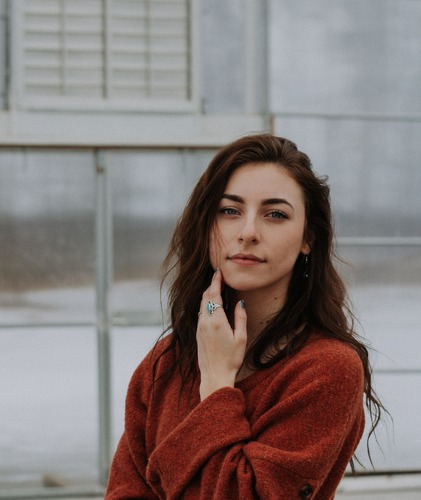without_mask: (210, 182, 297, 284)
